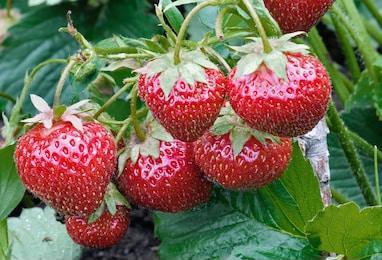Fresa: (12, 107, 117, 223), (227, 39, 335, 141), (193, 95, 297, 199), (114, 117, 215, 217), (136, 46, 231, 147)
